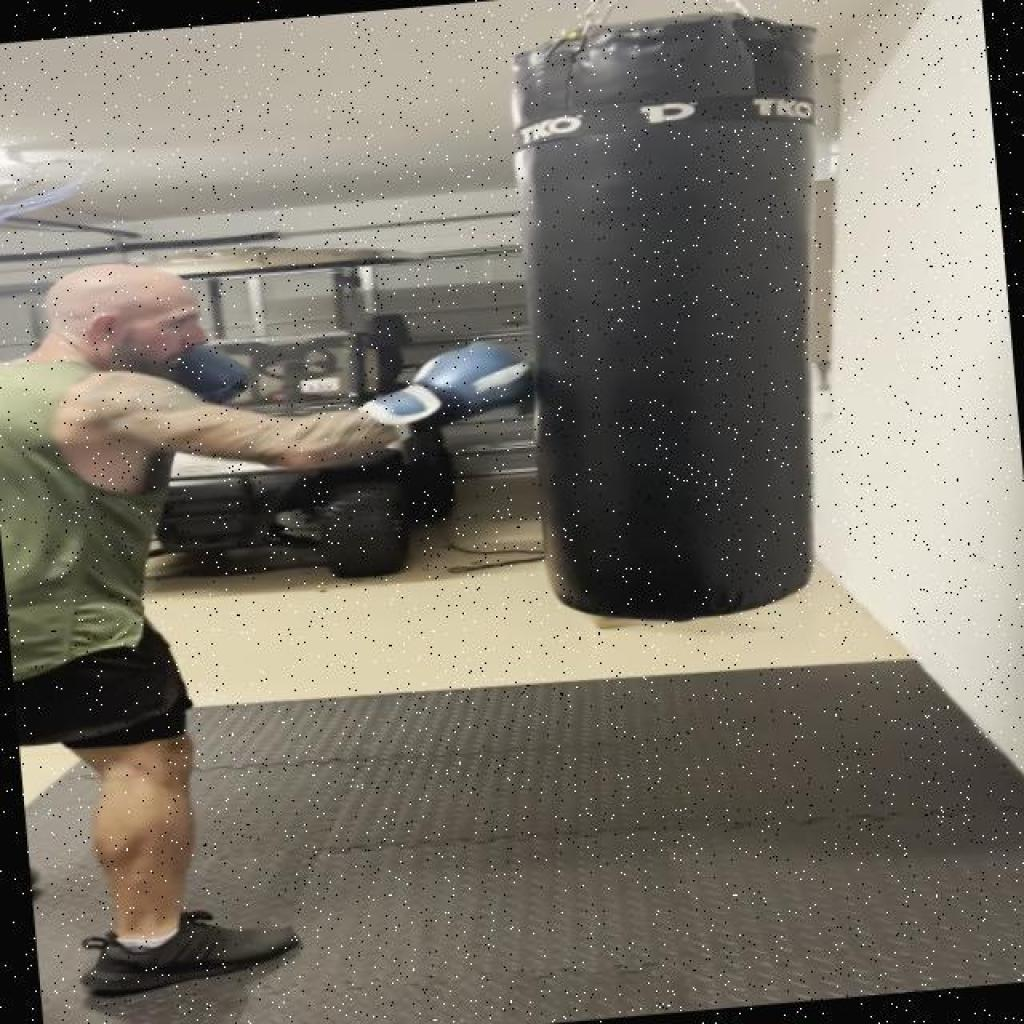bag: (499, 13, 874, 648)
jab: (2, 134, 640, 560)
